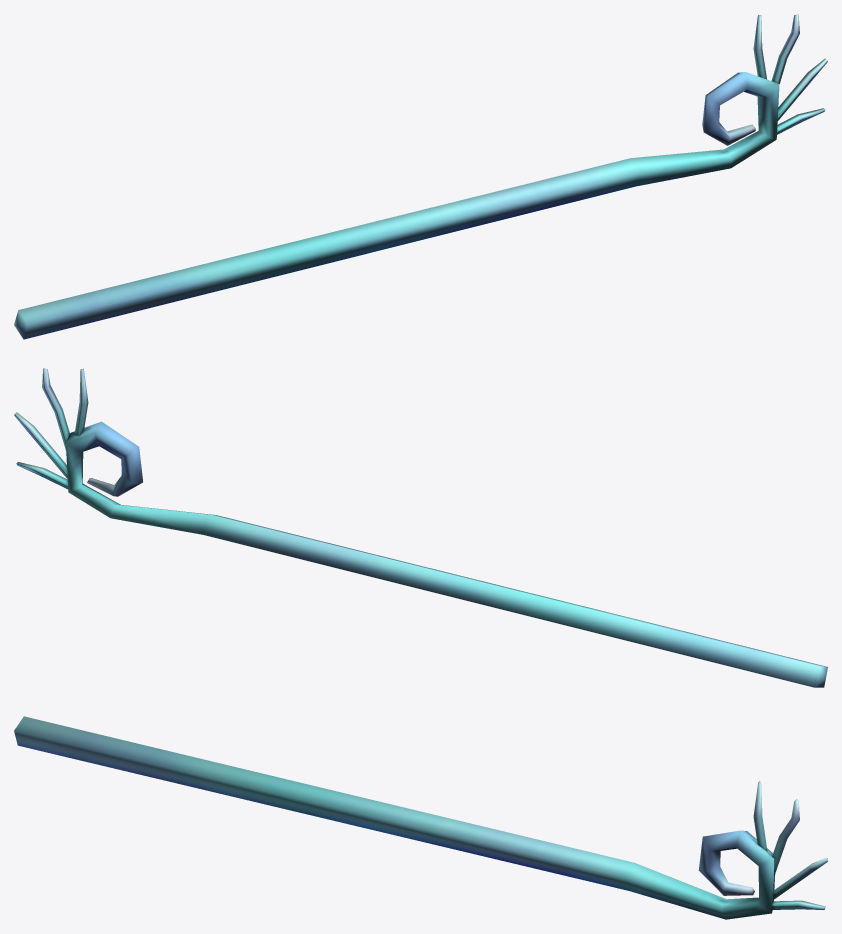
The model's file is Staff 3.fbx.
The picture shows the model from 3 angles, top to bottom: view 1: azimuth 30°, elevation 25°; view 2: azimuth 150°, elevation 25°; view 3: azimuth 330°, elevation 25°; orthographic projection.
Visible parts, largest first — view 1: Staff3; view 2: Staff3; view 3: Staff3.
Boxes of the visible parts, x1,y1,x2,y2 form: Staff3: (14, 14, 827, 339); Staff3: (14, 368, 827, 687); Staff3: (14, 716, 827, 919).
Bounding box in the file's own units: 2.43 × 0.4107 × 0.0722.
